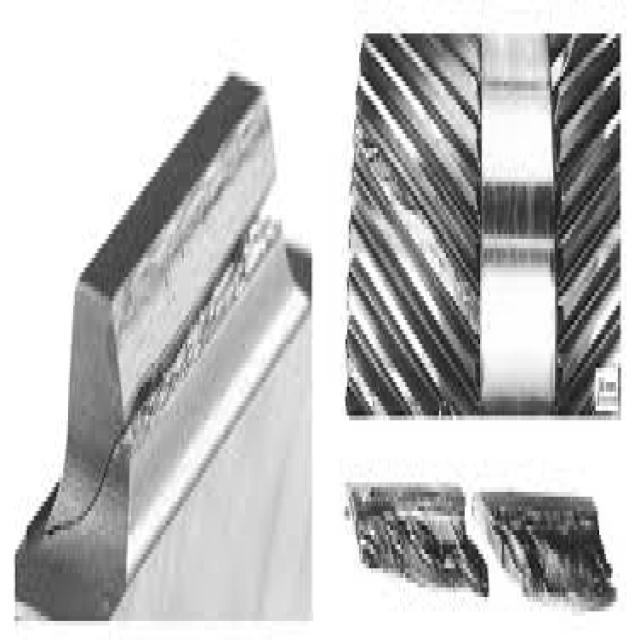Fault-Exist: (26, 62, 304, 553), (340, 453, 620, 633), (355, 62, 478, 402)
